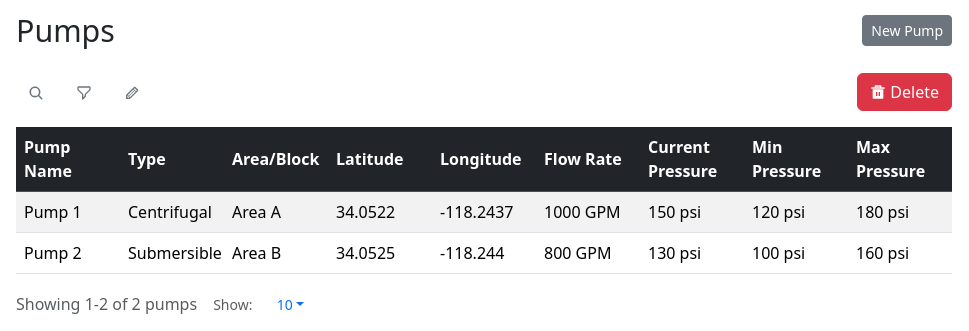
Scenario: PumpsPage › Delete functionality › should exit delete mode when cancel is clicked
# Enter delete mode
Click the button "Delete" at (905, 92), box x1=857 y1=72 x2=952 y2=110
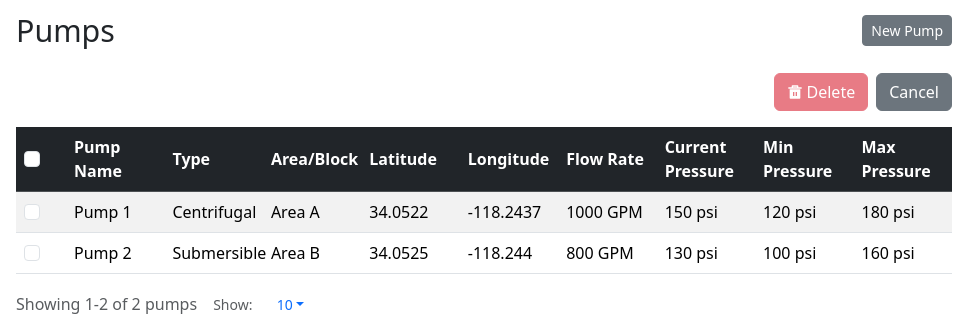
Expected: the checkbox next to "Pump Name" is shown, x1=24 y1=150 x2=40 y2=166
# Click cancel
Click the button "Cancel" at (914, 92), box x1=876 y1=72 x2=952 y2=110
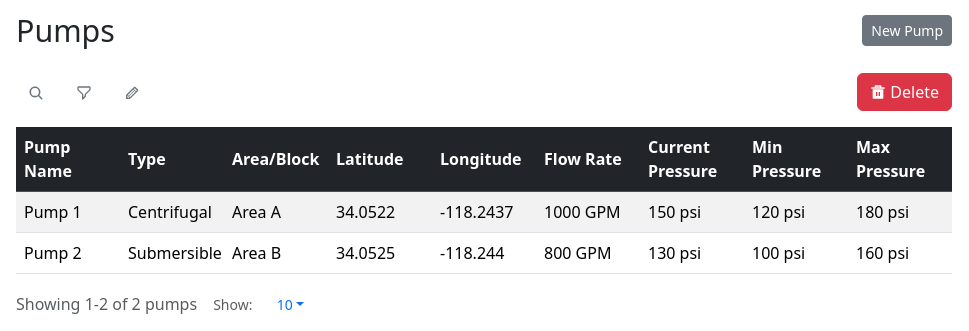
Expected: no checkboxes are shown
